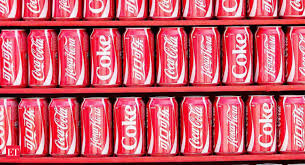coke-can: (247, 95, 279, 156), (58, 26, 91, 85), (48, 96, 80, 156), (122, 26, 153, 86), (111, 98, 142, 156), (25, 28, 54, 88), (159, 28, 189, 85)
